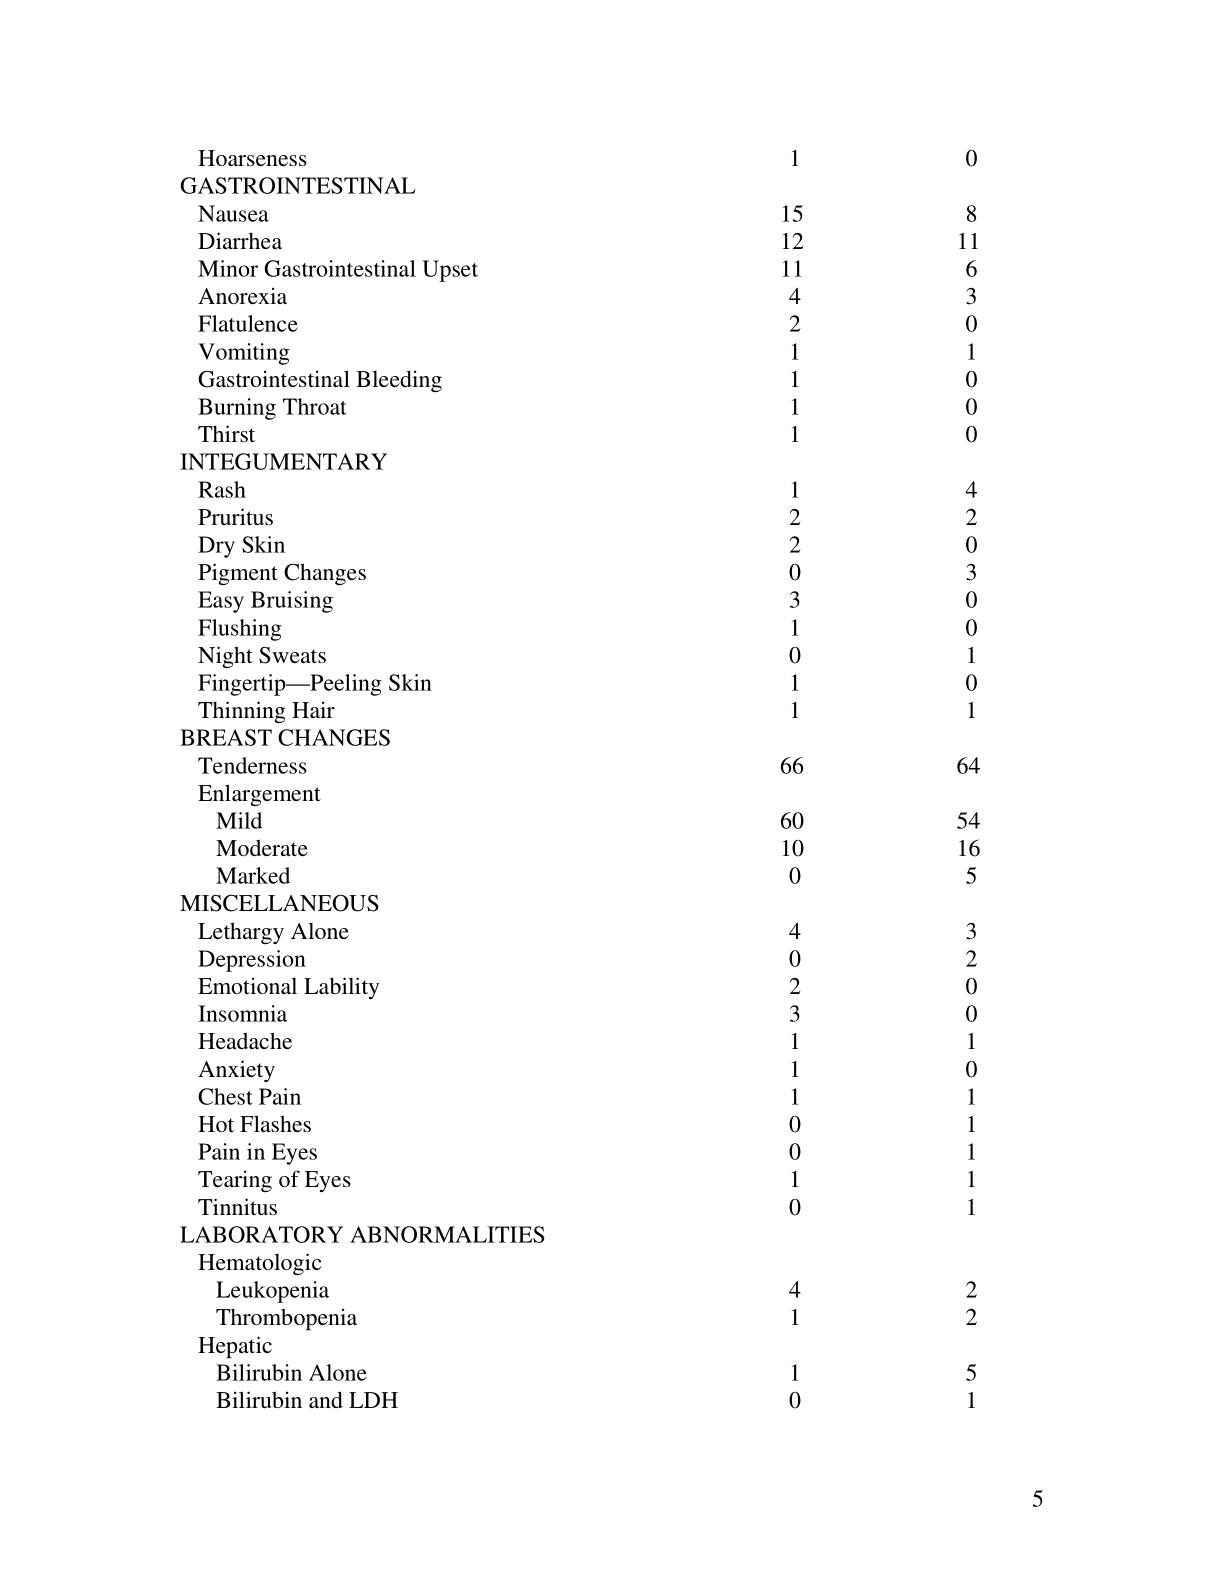nolines: (183, 147, 984, 1413)
